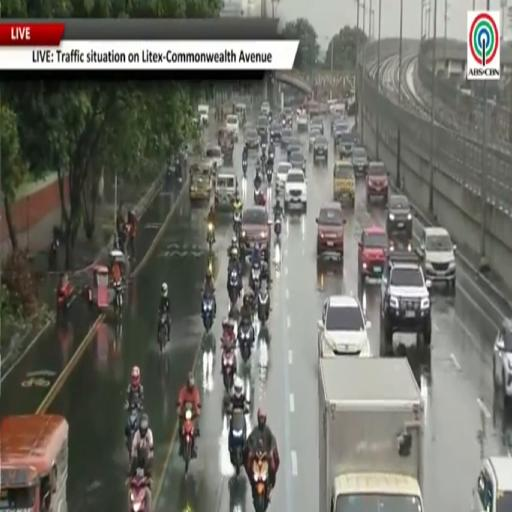car: (381, 251, 431, 353), (318, 296, 371, 358), (420, 227, 456, 292), (471, 456, 511, 511), (316, 202, 345, 259), (358, 226, 387, 283), (239, 206, 270, 259), (387, 195, 413, 239), (285, 169, 306, 213), (366, 162, 388, 203), (352, 146, 368, 177), (336, 133, 354, 158), (206, 144, 223, 169), (276, 162, 291, 190), (288, 151, 307, 173), (333, 120, 349, 146), (313, 136, 328, 163), (226, 115, 239, 141), (245, 128, 260, 150), (286, 137, 302, 157), (331, 116, 347, 135), (256, 116, 268, 139), (309, 128, 320, 151), (270, 121, 282, 142), (281, 128, 292, 150), (297, 113, 309, 132), (310, 117, 323, 134), (307, 101, 320, 118), (198, 105, 209, 125), (283, 107, 293, 127), (333, 103, 346, 118), (328, 100, 338, 115), (261, 102, 270, 117)
jeepney: (0, 414, 68, 511), (333, 160, 355, 205), (215, 168, 237, 211), (189, 160, 212, 201), (218, 127, 234, 165), (236, 103, 246, 125)
motorcycle: (228, 409, 246, 475), (182, 405, 198, 474), (252, 451, 269, 511), (129, 469, 151, 511), (125, 404, 140, 454), (238, 324, 254, 363), (222, 350, 235, 393), (228, 268, 241, 307), (202, 295, 214, 332), (258, 288, 270, 325), (57, 286, 72, 315), (158, 314, 169, 352), (113, 279, 123, 316), (48, 238, 59, 270), (250, 264, 261, 295), (206, 222, 214, 251), (254, 187, 266, 206), (233, 211, 241, 236), (274, 216, 281, 237), (268, 148, 275, 165), (267, 166, 273, 184), (242, 159, 247, 177)
truck: (318, 358, 423, 511)
